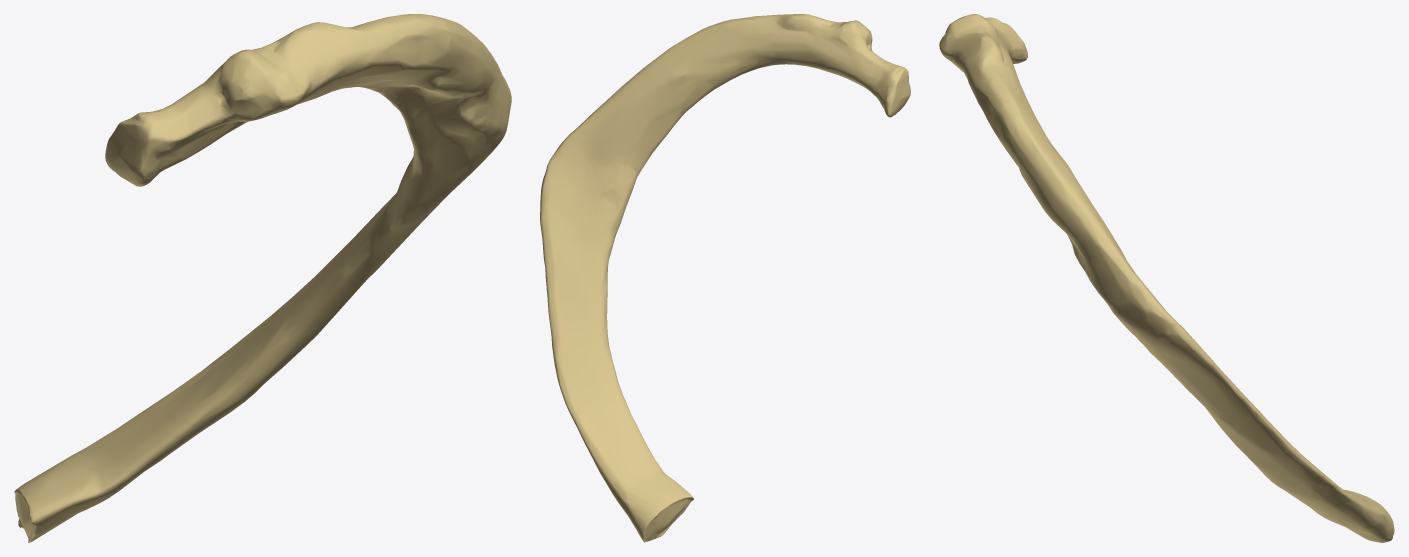
3 renders of one model, left to right at view 1: azimuth 30°, elevation 25°; view 2: azimuth 150°, elevation 25°; view 3: azimuth 270°, elevation 25°, orthographic. The views are drawn at different scales.
Visible parts, largest first — view 1: 左侧第二肋; view 2: 左侧第二肋; view 3: 左侧第二肋.
Part boxes in pixels (box(x1,y1,x2,y2)): 左侧第二肋: box(14, 14, 511, 542); 左侧第二肋: box(540, 14, 910, 542); 左侧第二肋: box(939, 14, 1394, 542).
Size of the model in its own units: 0.121 by 0.165 by 0.1345.
